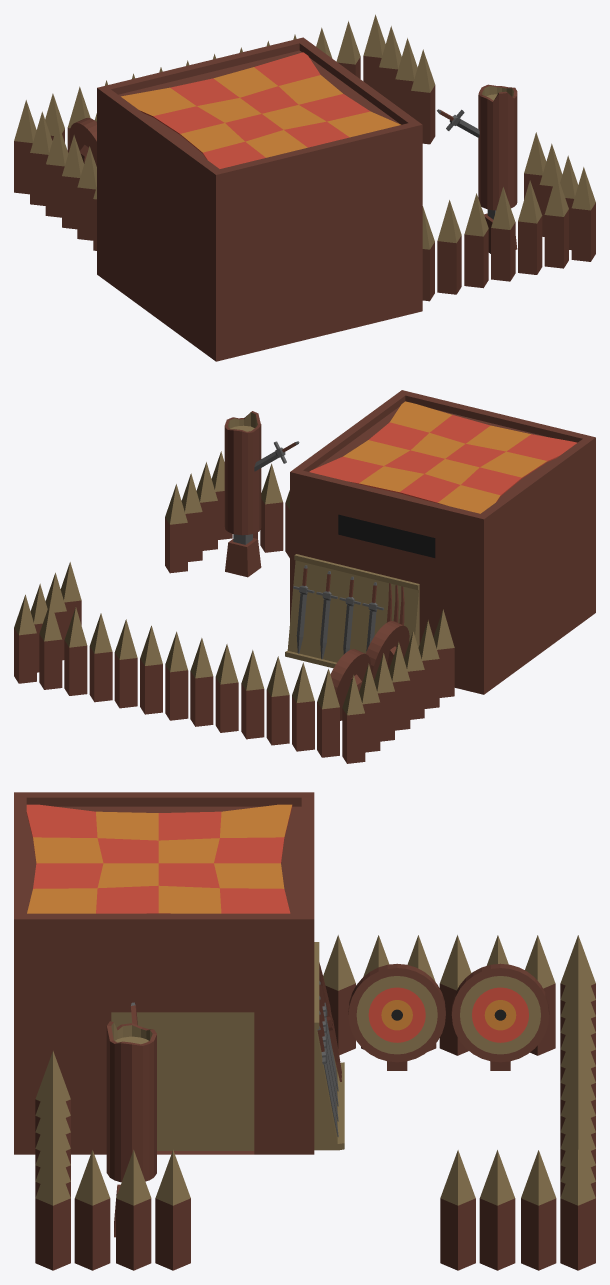
The model's file is Barracks TI.fbx.
The picture shows the model from 3 angles, top to bottom: view 1: azimuth 30°, elevation 25°; view 2: azimuth 150°, elevation 25°; view 3: azimuth 270°, elevation 25°; orthographic projection. The views are drawn at different scales.
Visible parts, largest first — view 1: Barracks TI; view 2: Barracks TI; view 3: Barracks TI.
Part boxes in pixels (<box>): Barracks TI: <box>14,14,595,361</box>; Barracks TI: <box>14,390,595,763</box>; Barracks TI: <box>14,792,595,1270</box>.
Bounding box in the file's own units: 1555 × 703 × 1572.
